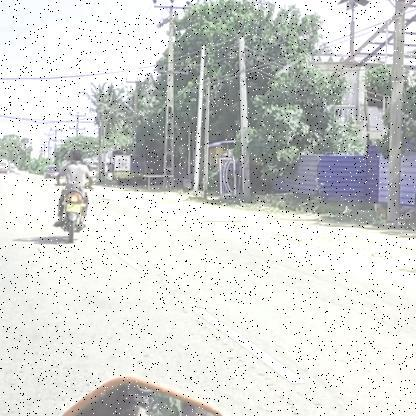motorcycle: (48, 189, 96, 246)
